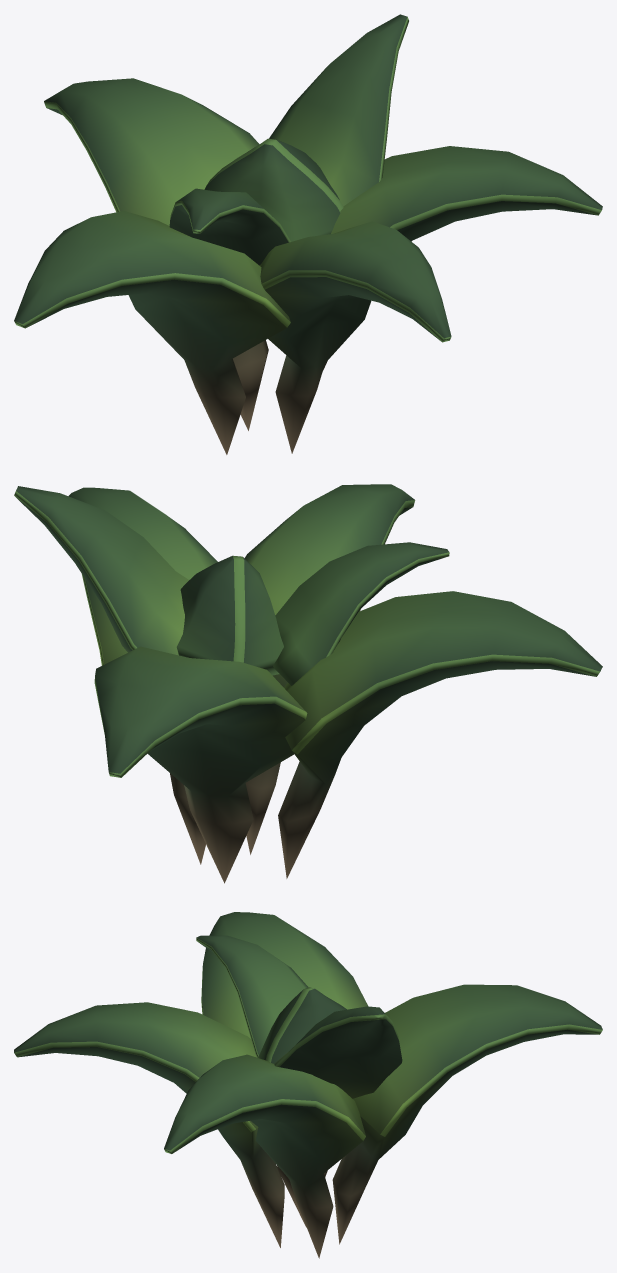
The model's file is plants-cacti-succulents-aloe_v2.glb.
3 renders of one model, top to bottom at view 1: azimuth 30°, elevation 25°; view 2: azimuth 150°, elevation 25°; view 3: azimuth 270°, elevation 25°, orthographic. The views are drawn at different scales.
Parts seen in each view (by area): view 1: Aloe_v2; view 2: Aloe_v2; view 3: Aloe_v2.
Part boxes in pixels (x1,y1,x2,y2): Aloe_v2: [14, 14, 602, 454]; Aloe_v2: [14, 484, 602, 883]; Aloe_v2: [14, 912, 602, 1258].
Size of the model in its own units: 0.2792 by 0.1713 by 0.3.
